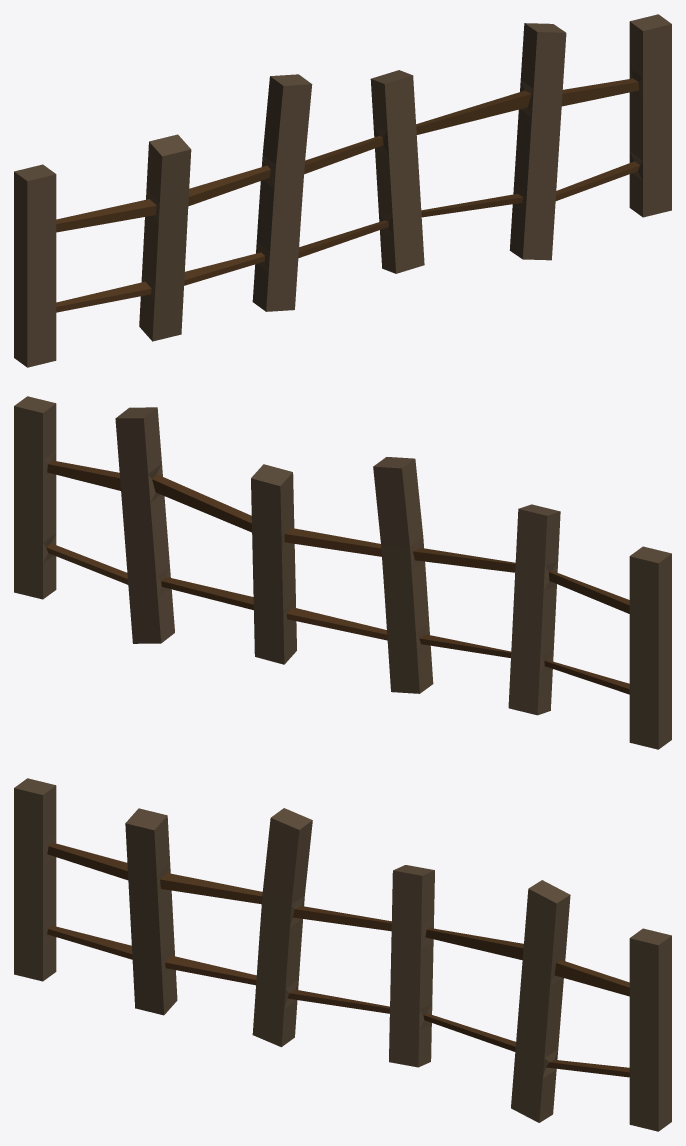
Rendered from CercaReta.fbx.
3 views of the same model, one above another, from view 1: azimuth 30°, elevation 25°; view 2: azimuth 150°, elevation 25°; view 3: azimuth 330°, elevation 25° (orthographic).
Parts seen in each view (by area): view 1: Cube; view 2: Cube; view 3: Cube.
Boxes of the visible parts, x1,y1,x2,y2 form: Cube: [14, 14, 671, 367]; Cube: [14, 396, 671, 749]; Cube: [14, 778, 671, 1131].
Bounding box in the file's own units: 1414 × 505 × 138.
